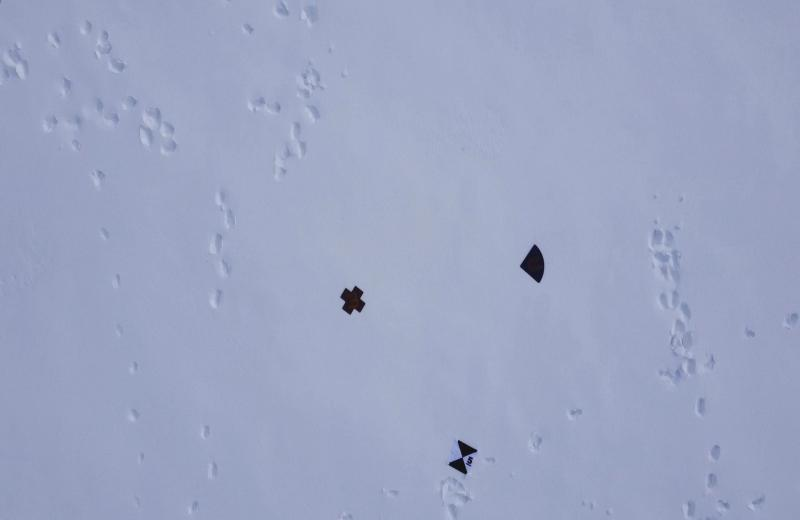Cross: (337, 282, 369, 317)
Quarter Circle: (517, 242, 549, 287)
